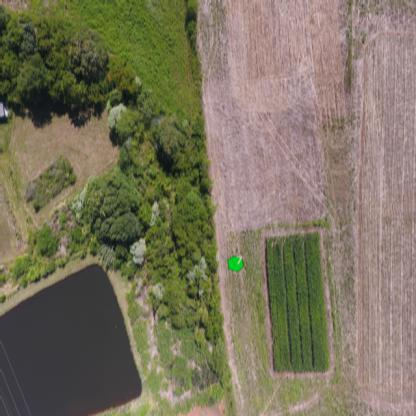7: (235, 253, 243, 264)
hexagon: (228, 255, 244, 273)
